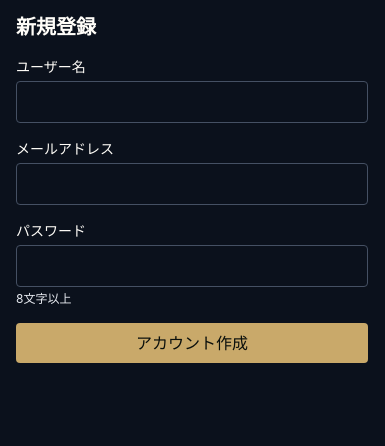
Test case: SignupForm › email 未入力では API を呼ばない
Type "tester" into the field below "ユーザー名" at (192, 102), box [16, 81, 368, 123]
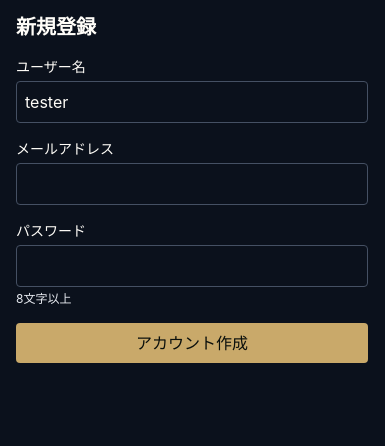
Type "password123" into the password field at (192, 266), box [16, 245, 368, 287]
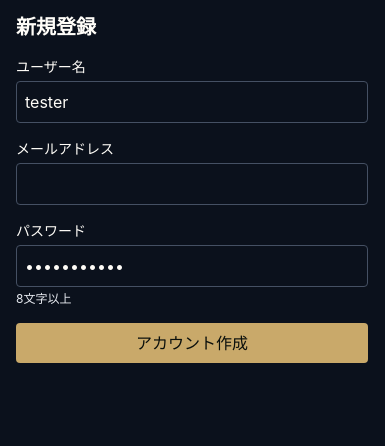
Click the button "アカウント作成" at (192, 343), box [16, 323, 368, 363]
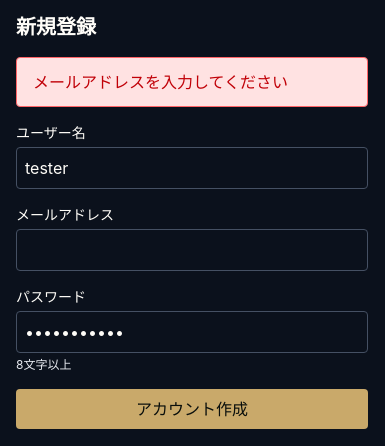
Result: the text "メールアドレスを入力してください" is shown at [16, 57, 368, 107]
